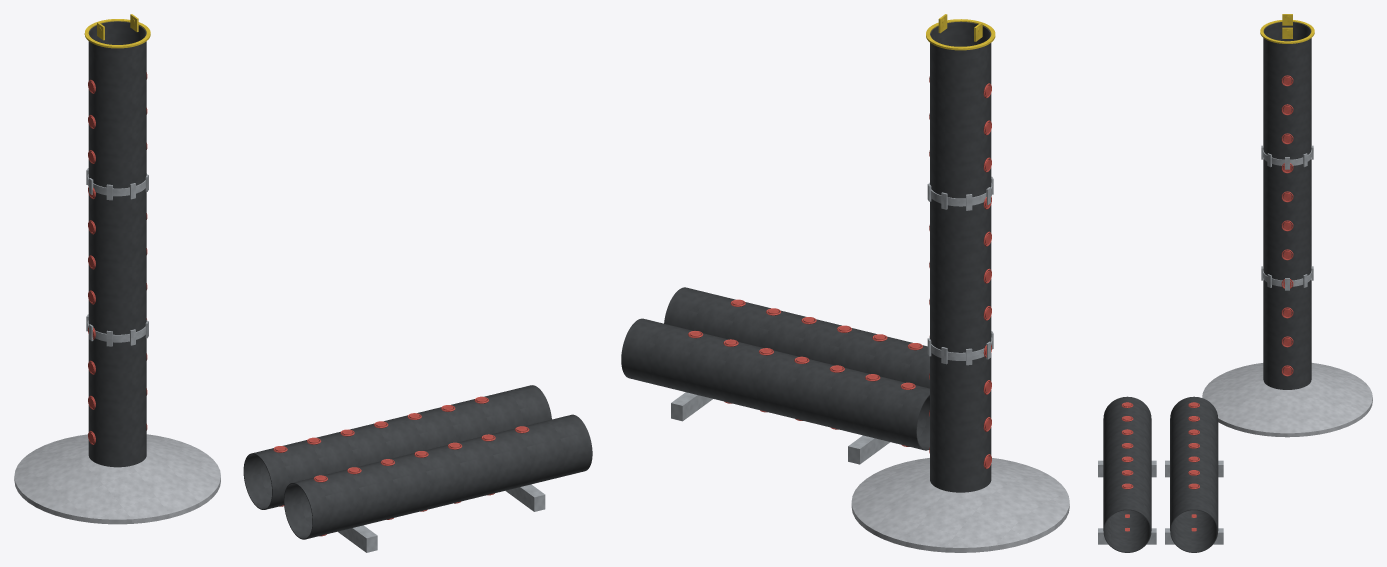
Rendered from jack-up-legs-and-spud-cans.glb.
The picture shows the model from 3 angles, left to right: view 1: azimuth 30°, elevation 25°; view 2: azimuth 150°, elevation 25°; view 3: azimuth 270°, elevation 25°; orthographic projection. The views are drawn at different scales.
Visible parts, largest first — view 1: LegSections, SpudCan, Splices&Trestles, PinHoles&ReinforcingRings, LegTop&Padeyes; view 2: LegSections, SpudCan, Splices&Trestles, PinHoles&ReinforcingRings, LegTop&Padeyes; view 3: LegSections, SpudCan, PinHoles&ReinforcingRings, Splices&Trestles, LegTop&Padeyes.
Part boxes in pixels (x1,y1,x2,y2): LegSections: [88, 21, 592, 539]; SpudCan: [14, 434, 220, 524]; Splices&Trestles: [86, 168, 545, 552]; PinHoles&ReinforcingRings: [88, 72, 529, 536]; LegTop&Padeyes: [84, 14, 150, 48]; LegSections: [621, 21, 991, 492]; SpudCan: [851, 458, 1069, 552]; Splices&Trestles: [671, 176, 993, 464]; PinHoles&ReinforcingRings: [688, 76, 991, 468]; LegTop&Padeyes: [926, 14, 995, 50]; LegSections: [1103, 22, 1311, 552]; SpudCan: [1202, 363, 1372, 437]; PinHoles&ReinforcingRings: [1121, 75, 1293, 531]; Splices&Trestles: [1098, 145, 1313, 544]; LegTop&Padeyes: [1260, 14, 1314, 43].
Size of the model in its own units: 16.2 by 17.05 by 10.3.
Materials: 5 (5 with a texture image).
